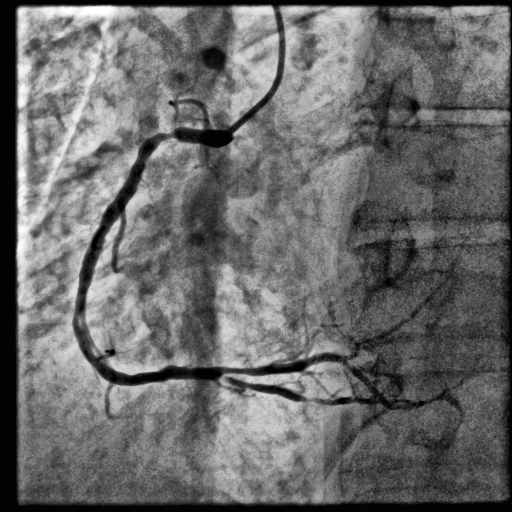pborca: (224, 239, 465, 376)
pda: (220, 376, 412, 405)
rca: (72, 128, 233, 385)
